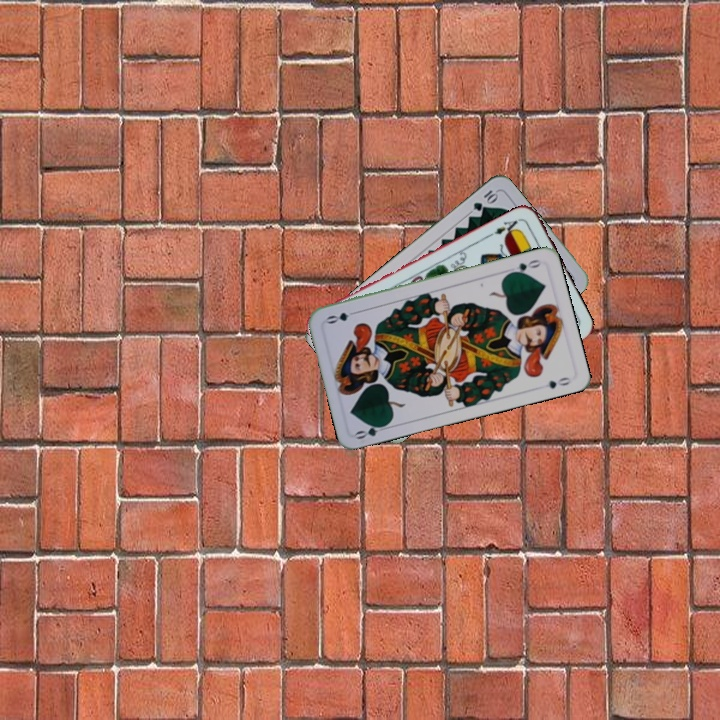EA: (486, 214, 523, 239)
G10: (469, 186, 501, 214)
GO: (352, 419, 392, 442), (505, 255, 544, 277)
